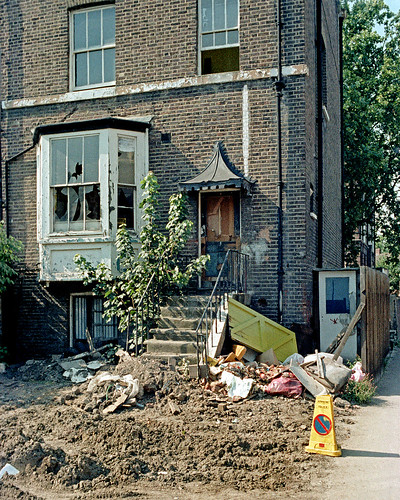building: (1, 1, 332, 339)
debris: (1, 332, 331, 500)
door: (195, 191, 247, 293)
window: (43, 127, 102, 231)
